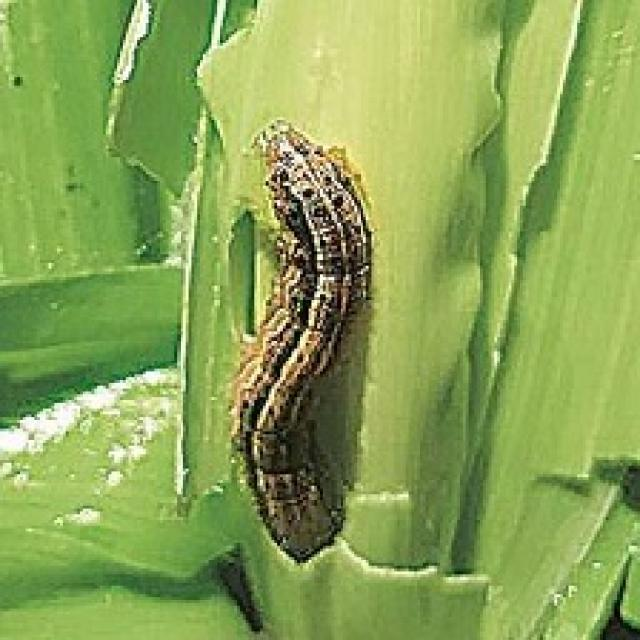Fall-armyworm: (224, 104, 388, 584)
